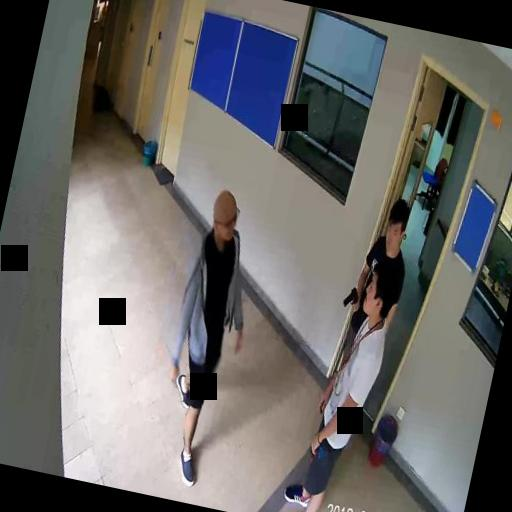Handgun: (339, 283, 360, 311)
